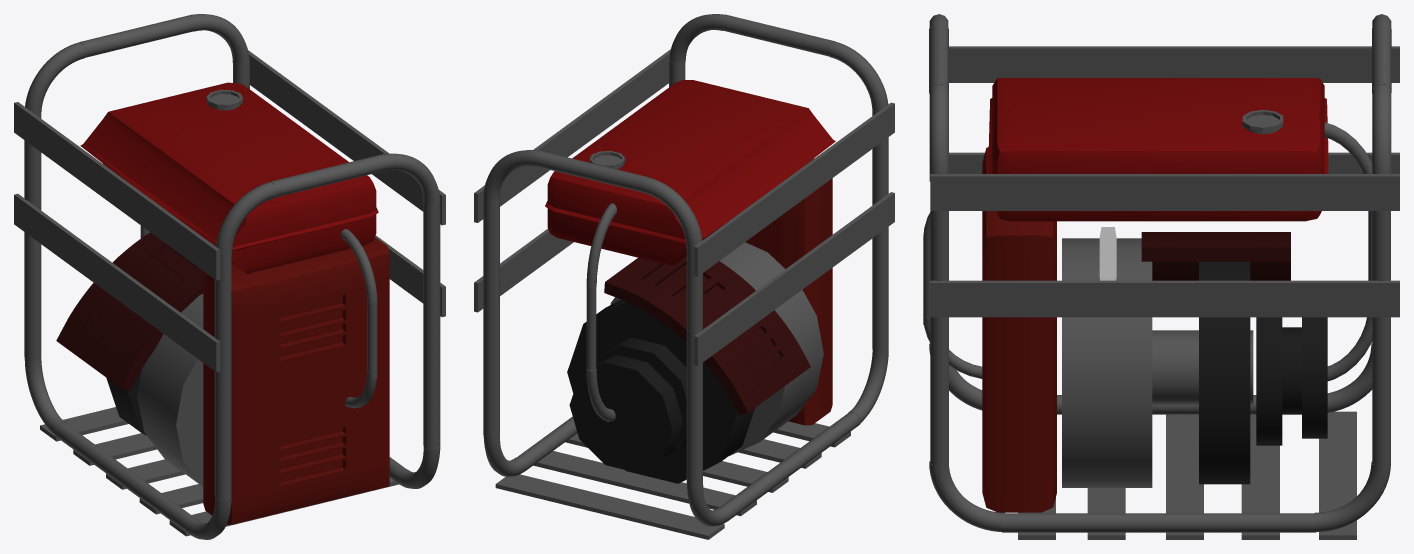
Rendered from SM_Generator.fbx.
3 renders of one model, left to right at view 1: azimuth 30°, elevation 25°; view 2: azimuth 150°, elevation 25°; view 3: azimuth 270°, elevation 25°, orthographic. The views are drawn at different scales.
Parts seen in each view (by area): view 1: Generator; view 2: Generator; view 3: Generator.
Boxes of the visible parts, x1=… form: Generator: x1=14, y1=14, x2=445, y2=539; Generator: x1=474, y1=14, x2=894, y2=539; Generator: x1=923, y1=14, x2=1399, y2=539.
Bounding box in the file's own units: 9.62 × 14.44 × 14.59.
